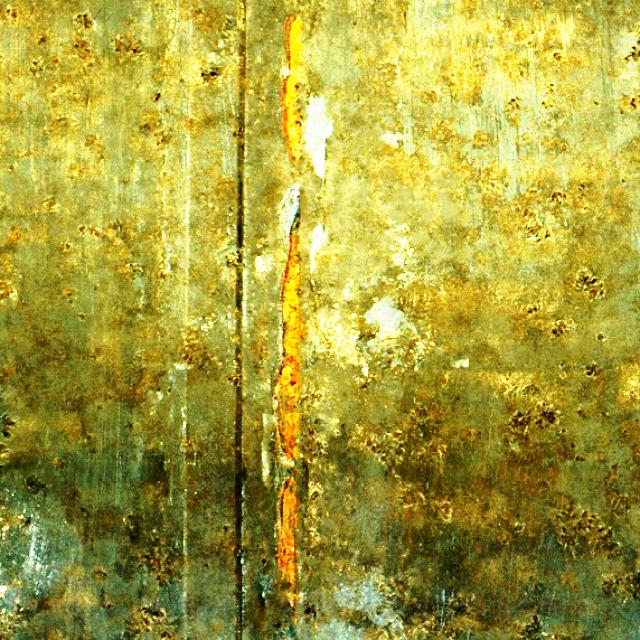Corrosion: (272, 207, 304, 463), (280, 16, 305, 162), (275, 476, 299, 610)
